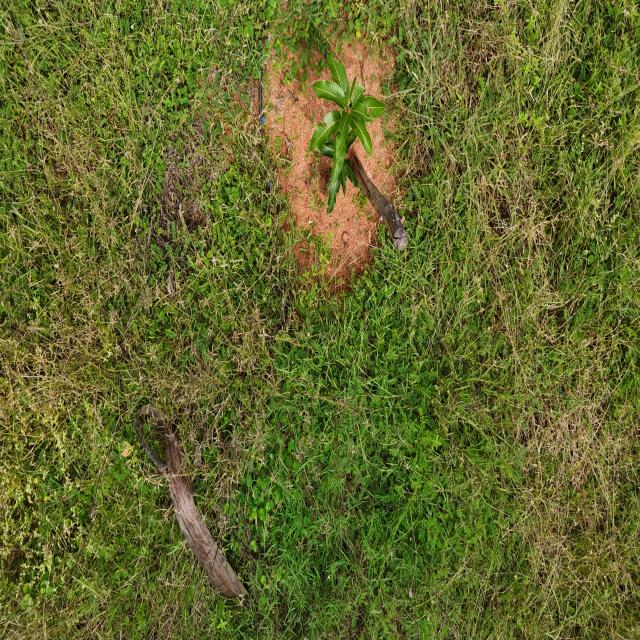mangoTree: (308, 42, 391, 216)
